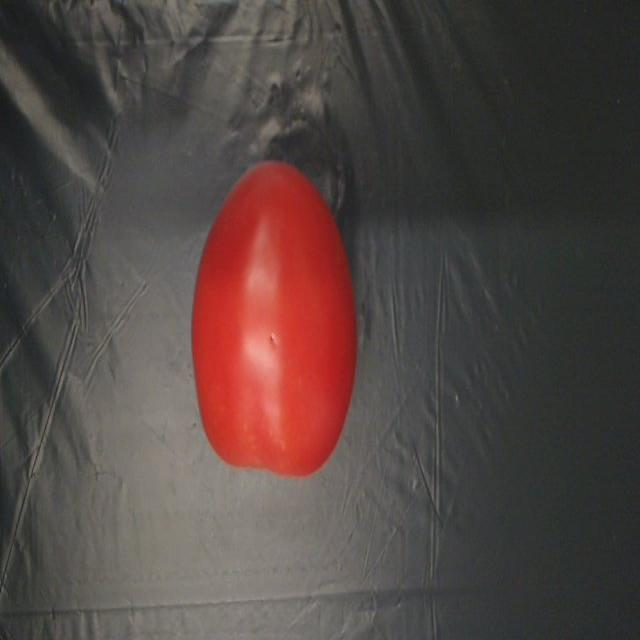kirmizi: (181, 126, 376, 497)
